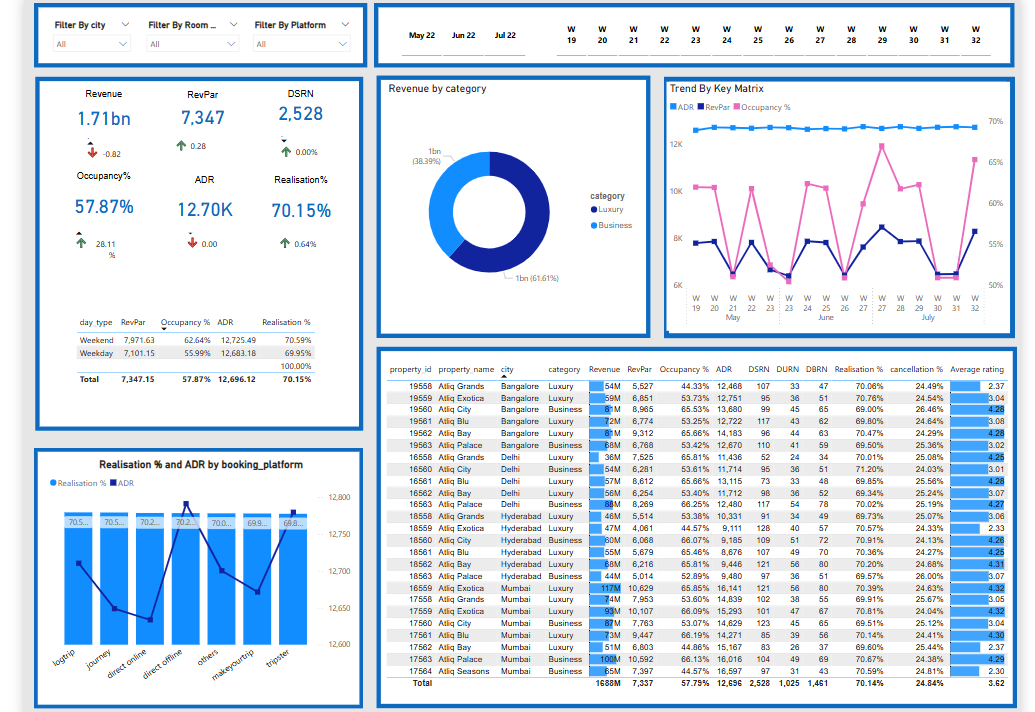

The dashboard page shown, as its layout file describes it:
{"tool":"powerbi","page":{"name":"Home","canvas":[1593,1157],"ordinal":0},"visuals":[{"type":"shape","box":[1023.3,125,561.7,418.3],"z":0},{"type":"shape","box":[563.3,123.3,438.3,420],"z":1000},{"type":"shape","box":[563.3,558.3,1025,578.3],"z":2000},{"type":"shape","box":[16.7,720,526.7,416.7],"z":3000},{"type":"shape","box":[18.3,125,525,566.7],"z":4000},{"type":"shape","box":[560,8.3,1025,103.3],"z":5000},{"type":"shape","box":[15,8.3,533.3,103.3],"z":6000},{"type":"tableEx","fields":{"Values":["key_measure.Revenue WoW chnage %"]},"box":[90,204.1,76.7,70],"z":7000,"group":"g1"},{"type":"tableEx","fields":{"Values":["dim_hotels.property_id","dim_hotels.property_name","dim_hotels.city","dim_hotels.category","key_measure.Revenue","key_measure.RevPar","key_measure.Occupancy %","key_measure.ADR","key_measure.DSRN","key_measure.DURN","key_measure.DBRN","key_measure.Realisation %"]},"box":[573.3,578.3,1006.7,546.7],"z":7000},{"type":"slicer","fields":{"Values":["dim_hotels.city"]},"box":[36.7,30,145,60],"z":8000},{"type":"tableEx","fields":{"Values":["key_measure.ADR WoW change%"]},"box":[250,348.1,76.7,90],"z":8000,"group":"g5"},{"type":"slicer","fields":{"Values":["dim_rooms.room_class"]},"box":[186.7,30,168.3,60],"z":9000},{"type":"tableEx","fields":{"Values":["key_measure.Revpar Wow change%"]},"box":[231.7,191.7,111.7,83.3],"z":9000,"group":"g2"},{"type":"tableEx","fields":{"Values":["key_measure.Occuppancy WoW change %"]},"box":[72.5,346.2,111.7,78.8],"z":9000,"group":"g4"},{"type":"slicer","fields":{"Values":["fact_bookings.booking_platform"]},"box":[355,30,176.7,60],"z":10000},{"type":"card","title":"RevPar","fields":{"Values":["key_measure.RevPar"]},"box":[220,146.7,131.7,69.6],"z":10000,"group":"g2"},{"type":"tableEx","fields":{"Values":["key_measure.Realisation Wow change%"]},"box":[398.3,348.1,90,91.7],"z":10000,"group":"g6"},{"type":"slicer","fields":{"Values":["dim_date.mmm yy"]},"box":[578.3,18.3,248.3,81.7],"z":11000},{"type":"card","title":"Revenue ","fields":{"Values":["key_measure.Revenue"]},"box":[56.7,143.3,143.3,76.7],"z":11000,"group":"g1"},{"type":"card","title":"Occupancy%","fields":{"Values":["key_measure.Occupancy %"]},"box":[56.7,275,143.3,93.6],"z":11000,"group":"g4"},{"type":"slicer","fields":{"Values":["dim_date.week no"]},"box":[826.7,18.3,745,81.7],"z":12000},{"type":"tableEx","fields":{"Values":["key_measure.DSRN Wow change%"]},"box":[400.9,200.3,85,78.3],"z":12000,"group":"g3"},{"type":"card","title":"ADR","fields":{"Values":["key_measure.ADR"]},"box":[213.3,281.7,150,93.3],"z":12000,"group":"g5"},{"type":"donutChart","fields":{"Y":["key_measure.Revenue"],"Category":["dim_hotels.category"]},"box":[578.3,133.3,410,398.3],"z":13000},{"type":"card","title":"Realisation%","fields":{"Values":["key_measure.Realisation %"]},"box":[370,281.7,146.7,95],"z":13000,"group":"g6"},{"type":"lineChart","title":"Trend By Key Matrix","fields":{"Category":["dim_date.mmm yy.Variation.Date Hierarchy.Month","dim_date.week no"],"Y":["key_measure.ADR","key_measure.RevPar"],"Y2":["key_measure.Occupancy %"]},"box":[1028.3,133.3,543.3,398.3],"z":14000},{"type":"card","title":"DSRN","fields":{"Values":["key_measure.DSRN"]},"box":[386.7,143.3,113.3,60],"z":14000,"group":"g3"},{"type":"lineStackedColumnComboChart","fields":{"Category":["fact_bookings.booking_platform"],"Y":["key_measure.Realisation %"],"Y2":["key_measure.ADR"]},"box":[36.7,736.7,495,381.7],"z":15000},{"type":"tableEx","fields":{"Values":["dim_date.day_type","key_measure.RevPar","key_measure.Occupancy %","key_measure.ADR","key_measure.Realisation %"]},"box":[78.3,501.7,396.7,153.3],"z":16000},{"type":"group","id":"g1","title":"Group 1","box":[56.7,143.3,143.3,131.7],"z":17000},{"type":"group","id":"g2","title":"Group 2","box":[220,146.7,131.7,128.3],"z":18000},{"type":"group","id":"g3","title":"Group 3","box":[386.7,143.3,113.3,135],"z":19000},{"type":"group","id":"g4","title":"Group 4","box":[56.7,275,143.3,150],"z":20000},{"type":"group","id":"g5","title":"Group 5","box":[213.3,281.7,150,156.7],"z":21000},{"type":"group","id":"g6","title":"Group 6","box":[370,281.7,146.7,158.3],"z":22000}]}

Visuals, with their boxes on the page's 1593x1157 design canvas (x1, y1, x2, y2). These are canvas units, not pixel positions in the 1035x712 screenshot, which may show the page scaled, cropped or inside an application window:
shape: <region>1023, 125, 1585, 543</region>
shape: <region>563, 123, 1002, 543</region>
shape: <region>563, 558, 1588, 1137</region>
shape: <region>17, 720, 543, 1137</region>
shape: <region>18, 125, 543, 692</region>
shape: <region>560, 8, 1585, 112</region>
shape: <region>15, 8, 548, 112</region>
tableEx - key_measure.Revenue WoW chnage %: <region>90, 204, 167, 274</region>
tableEx - dim_hotels.property_id x dim_hotels.property_name: <region>573, 578, 1580, 1125</region>
slicer - dim_hotels.city: <region>37, 30, 182, 90</region>
tableEx - key_measure.ADR WoW change%: <region>250, 348, 327, 438</region>
slicer - dim_rooms.room_class: <region>187, 30, 355, 90</region>
tableEx - key_measure.Revpar Wow change%: <region>232, 192, 343, 275</region>
tableEx - key_measure.Occuppancy WoW change %: <region>72, 346, 184, 425</region>
slicer - fact_bookings.booking_platform: <region>355, 30, 532, 90</region>
"RevPar" card: <region>220, 147, 352, 216</region>
tableEx - key_measure.Realisation Wow change%: <region>398, 348, 488, 440</region>
slicer - dim_date.mmm yy: <region>578, 18, 827, 100</region>
"Revenue " card: <region>57, 143, 200, 220</region>
"Occupancy%" card: <region>57, 275, 200, 369</region>
slicer - dim_date.week no: <region>827, 18, 1572, 100</region>
tableEx - key_measure.DSRN Wow change%: <region>401, 200, 486, 279</region>
"ADR" card: <region>213, 282, 363, 375</region>
donutChart - key_measure.Revenue x dim_hotels.category: <region>578, 133, 988, 532</region>
"Realisation%" card: <region>370, 282, 517, 377</region>
"Trend By Key Matrix" lineChart: <region>1028, 133, 1572, 532</region>
"DSRN" card: <region>387, 143, 500, 203</region>
lineStackedColumnComboChart - fact_bookings.booking_platform x key_measure.Realisation %: <region>37, 737, 532, 1118</region>
tableEx - dim_date.day_type x key_measure.RevPar: <region>78, 502, 475, 655</region>
"Group 1" group: <region>57, 143, 200, 275</region>
"Group 2" group: <region>220, 147, 352, 275</region>
"Group 3" group: <region>387, 143, 500, 278</region>
"Group 4" group: <region>57, 275, 200, 425</region>
"Group 5" group: <region>213, 282, 363, 438</region>
"Group 6" group: <region>370, 282, 517, 440</region>
